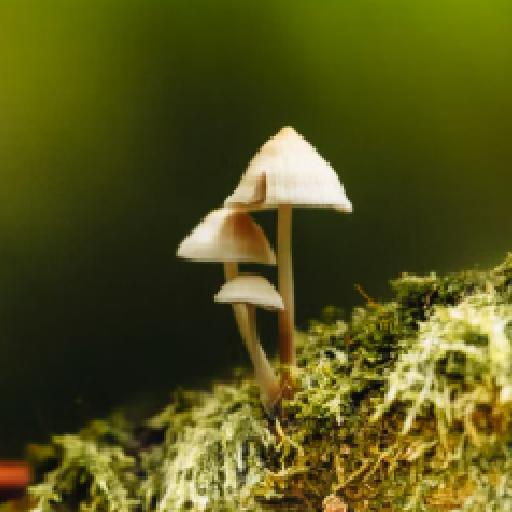mushrooms: (168, 118, 354, 403)
